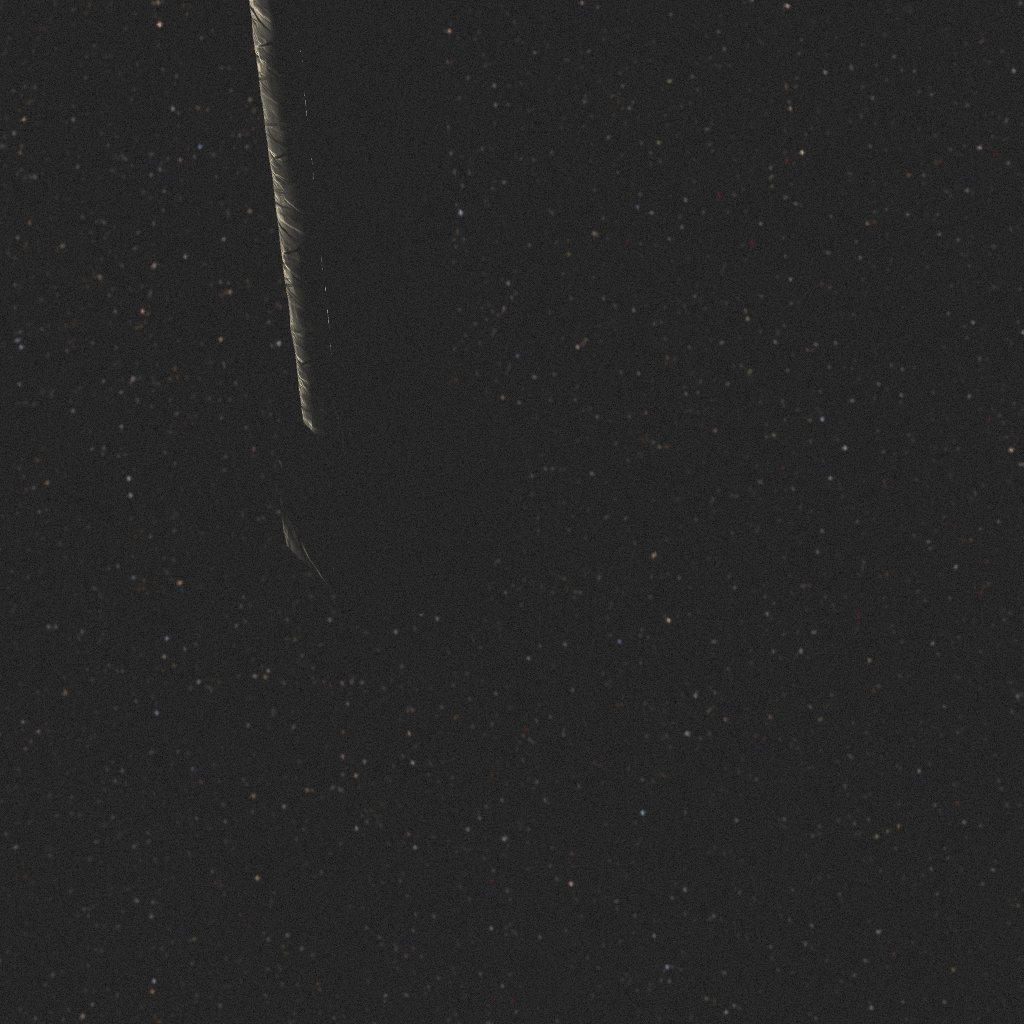xmm_newton: (249, 0, 527, 625)
